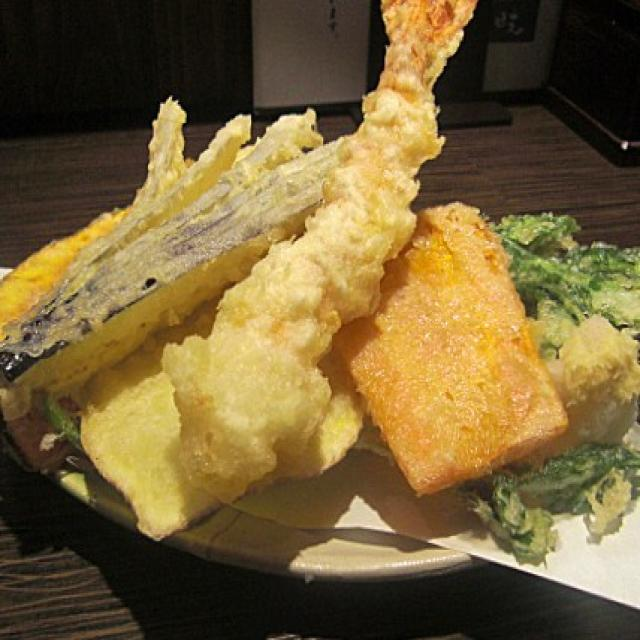蔬菜料理: (0, 0, 640, 578)
